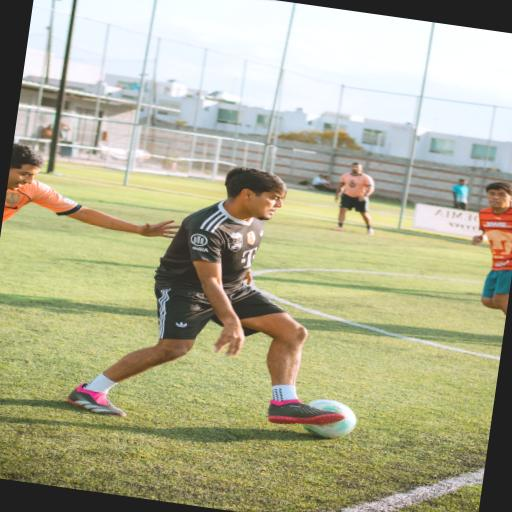shoe: (66, 383, 125, 416), (267, 400, 343, 425), (330, 226, 343, 231), (366, 228, 373, 235)
